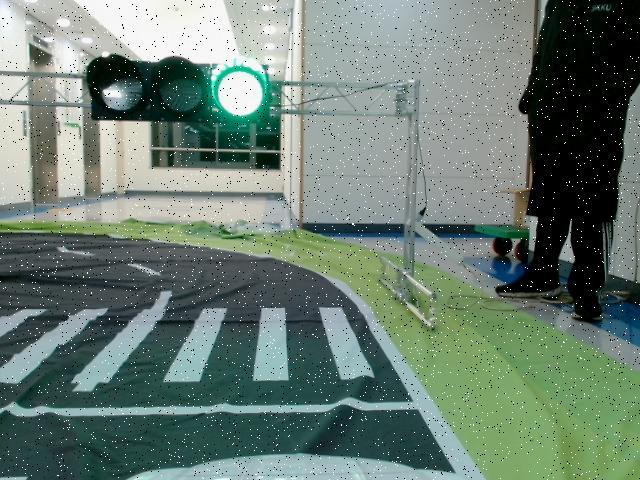crosswalk: (0, 308, 382, 380)
traffic light-green-: (86, 52, 272, 122)
